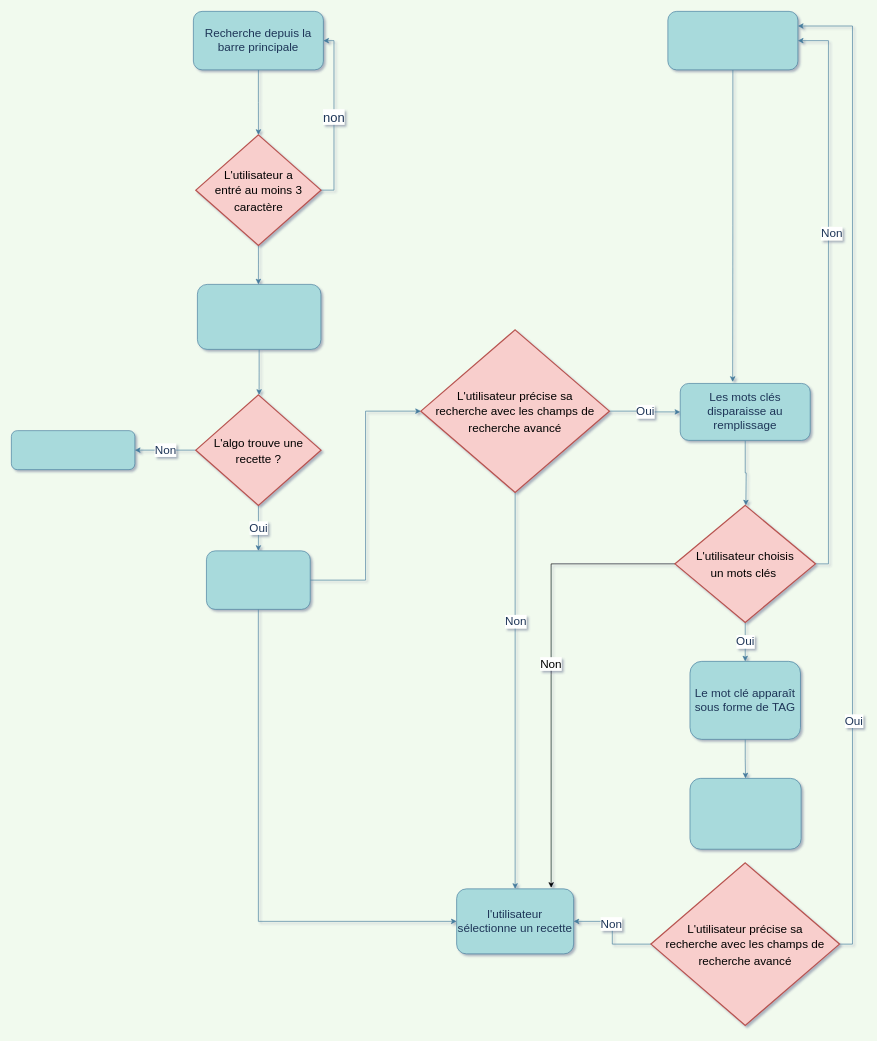
Some shapes in this 877 by 1041 pixel diagram are drawn without their labels. Each missing label, with the box of its shape:
L'algo lance la recherche: (197, 284, 321, 349)
L'interface est actualisé: (206, 550, 310, 609)
Les résultats de recherche et l'interface sont actualisé: (689, 778, 801, 849)
on affiche un message d'erreur: (11, 430, 135, 470)
Recherche depuis la barre de recherche avancé: (667, 11, 798, 70)
